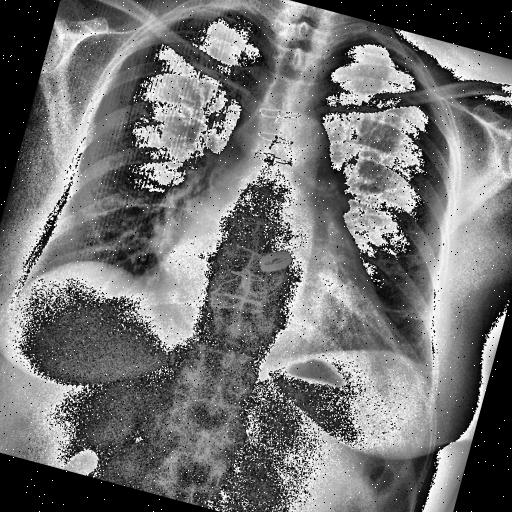1- Atelectasis: (359, 294, 440, 327)
3- Cardiomegaly: (93, 74, 464, 432), (140, 154, 446, 364), (152, 208, 416, 364)
5- ILD: (355, 279, 461, 381)
9- Other lesion: (156, 62, 352, 416), (188, 88, 336, 332), (202, 86, 338, 322)
